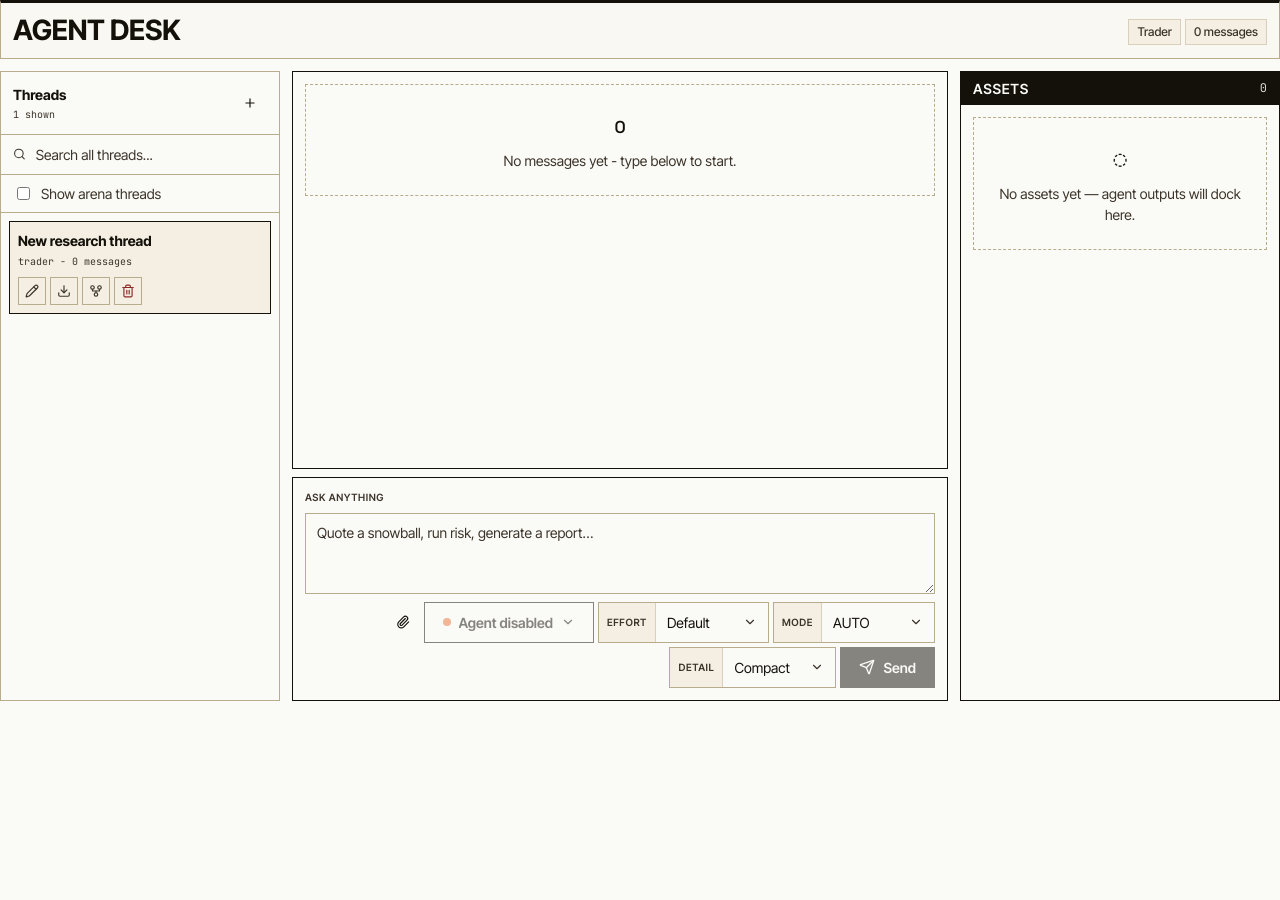
Test: AgentDeskLive SSE parsing › shows an auto-renamed thread title after the post-stream refresh
Expected: the text "New research thread" is shown, [18,232,152,249]
In the text box labelled "Ask anything": (620, 553) [305,513,935,594], type "Summarize risk limits for Default"
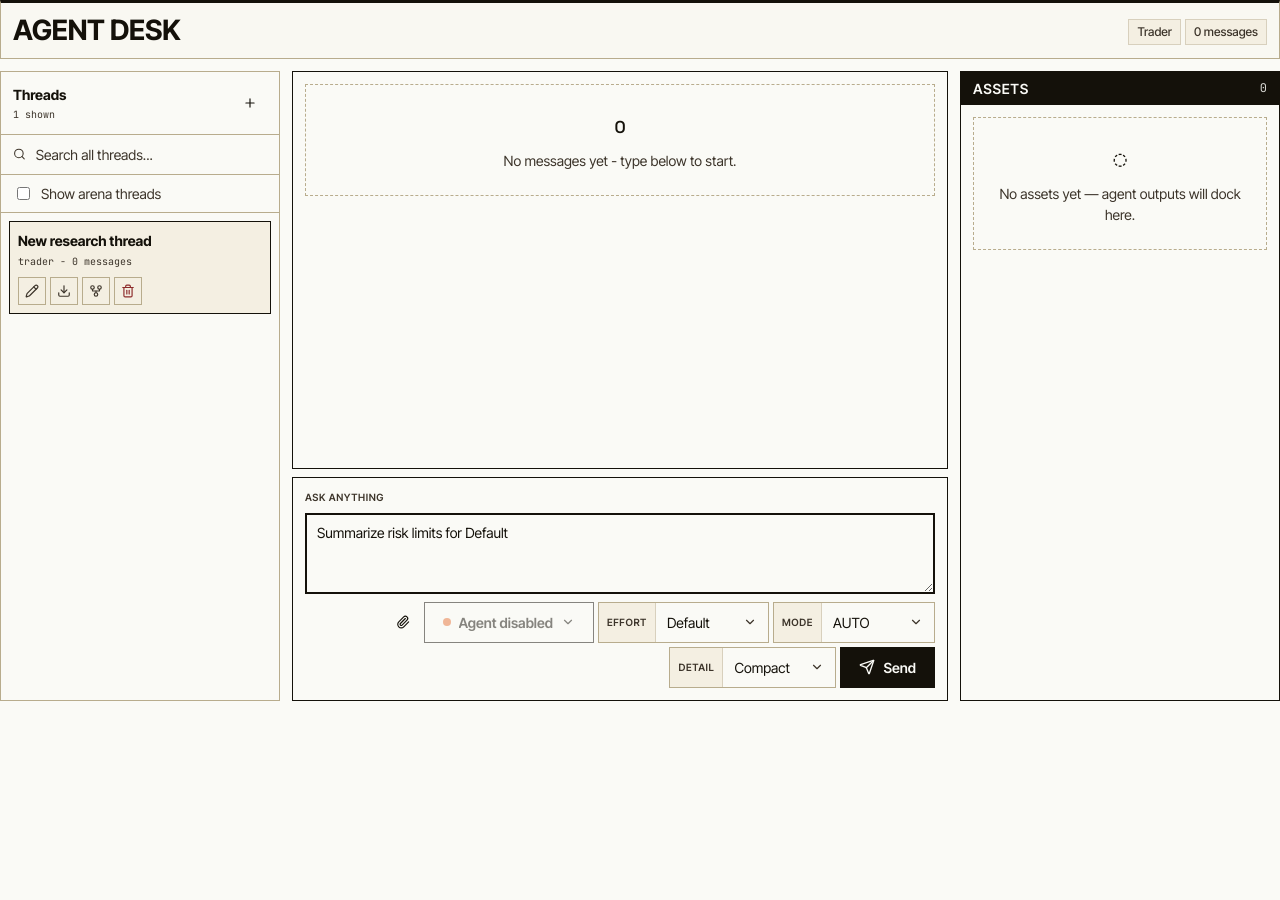
Click the button "Send": (888, 667) [840,647,935,688]
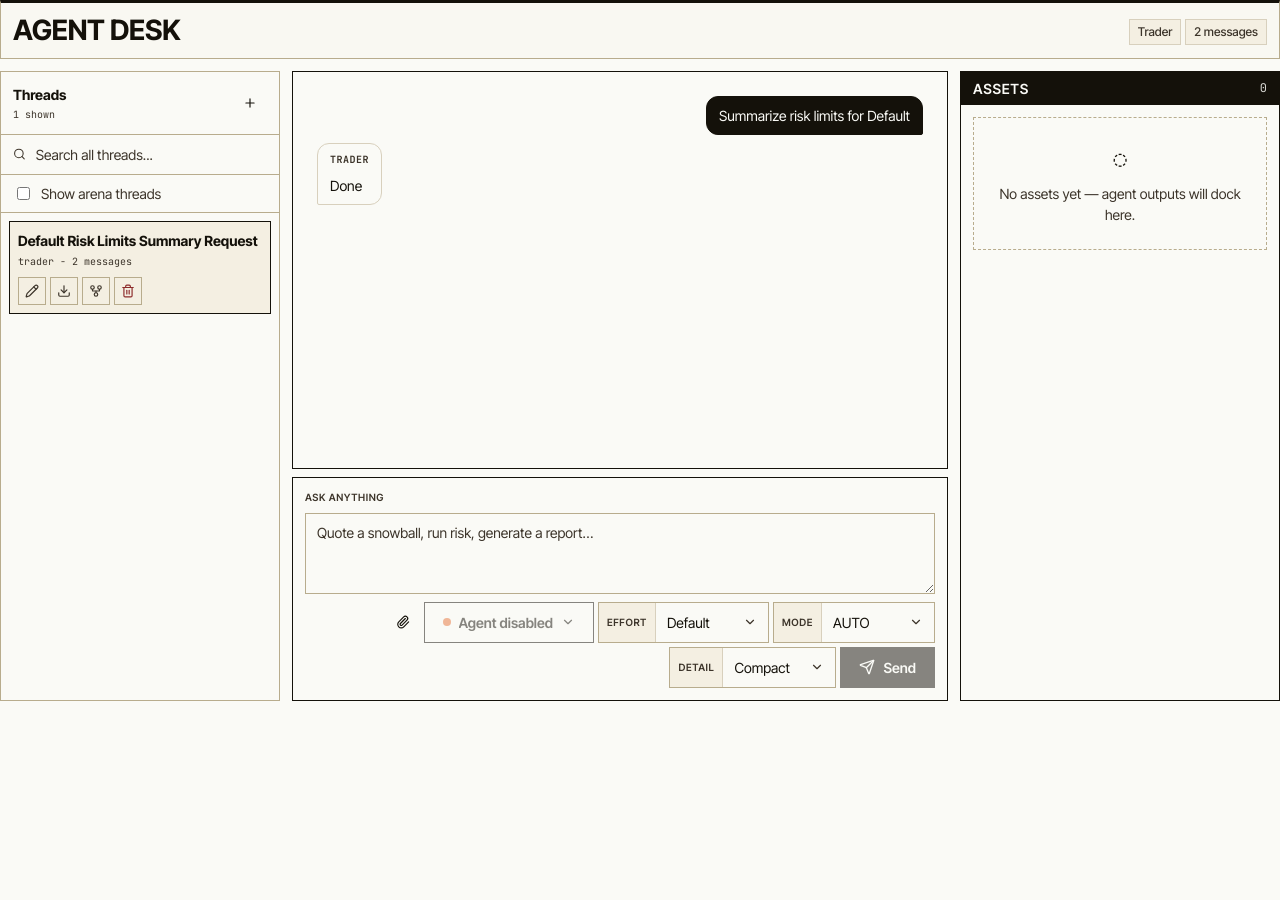
Now the button "Default Risk Limits Summary Request trader - 2 messages" is shown, box [18,230,262,269]
